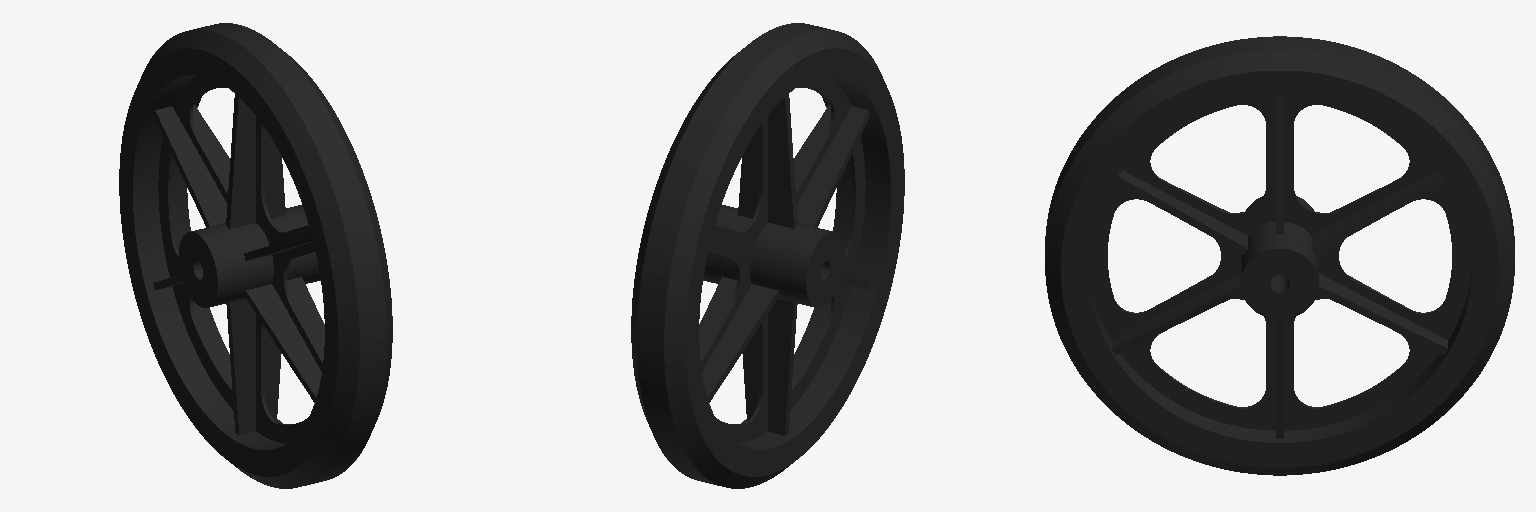
The model's file is leftfrontwheel_visual.obj.
The picture shows the model from 3 angles: view 1: azimuth 30°, elevation 25°; view 2: azimuth 150°, elevation 25°; view 3: azimuth 270°, elevation 25°; orthographic projection.
Parts seen in each view (by area): view 1: leftfrontwheel_visual.001; view 2: leftfrontwheel_visual.001; view 3: leftfrontwheel_visual.001.
Boxes of the visible parts, <box> form: leftfrontwheel_visual.001: <box>119,23,392,488</box>; leftfrontwheel_visual.001: <box>631,23,904,488</box>; leftfrontwheel_visual.001: <box>1045,36,1514,475</box>.
Size of the model in its own units: 0.054 by 0.1904 by 0.1905.